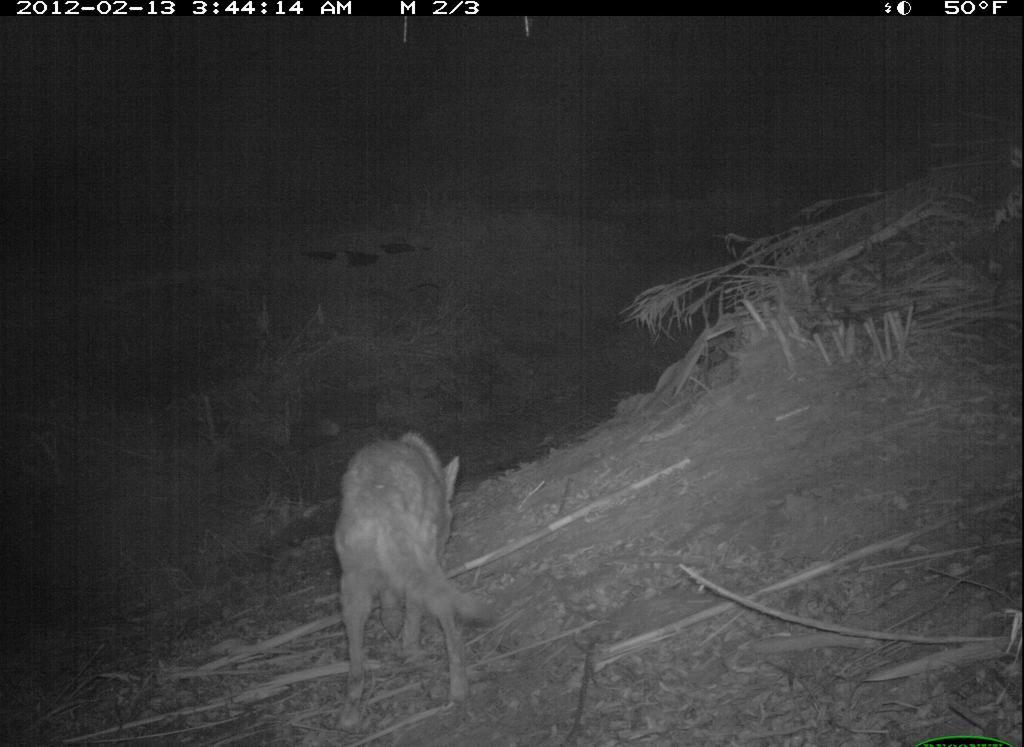coyote: (324, 428, 506, 708)
